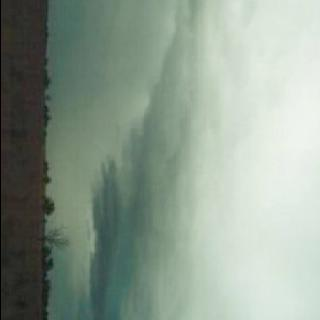Nimbostratus: (66, 0, 320, 320)
